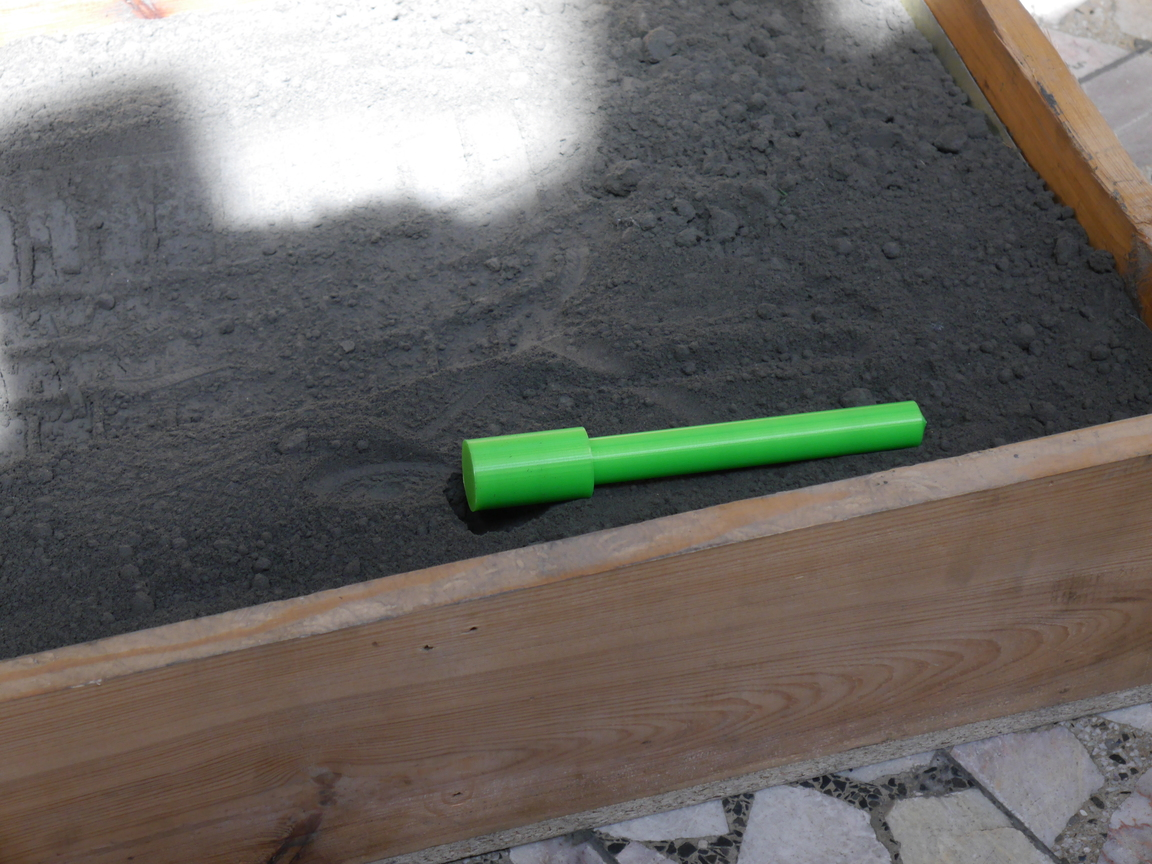cargo_g: (460, 396, 928, 511)
